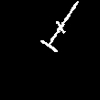double_crochet: (41, 1, 77, 51)
